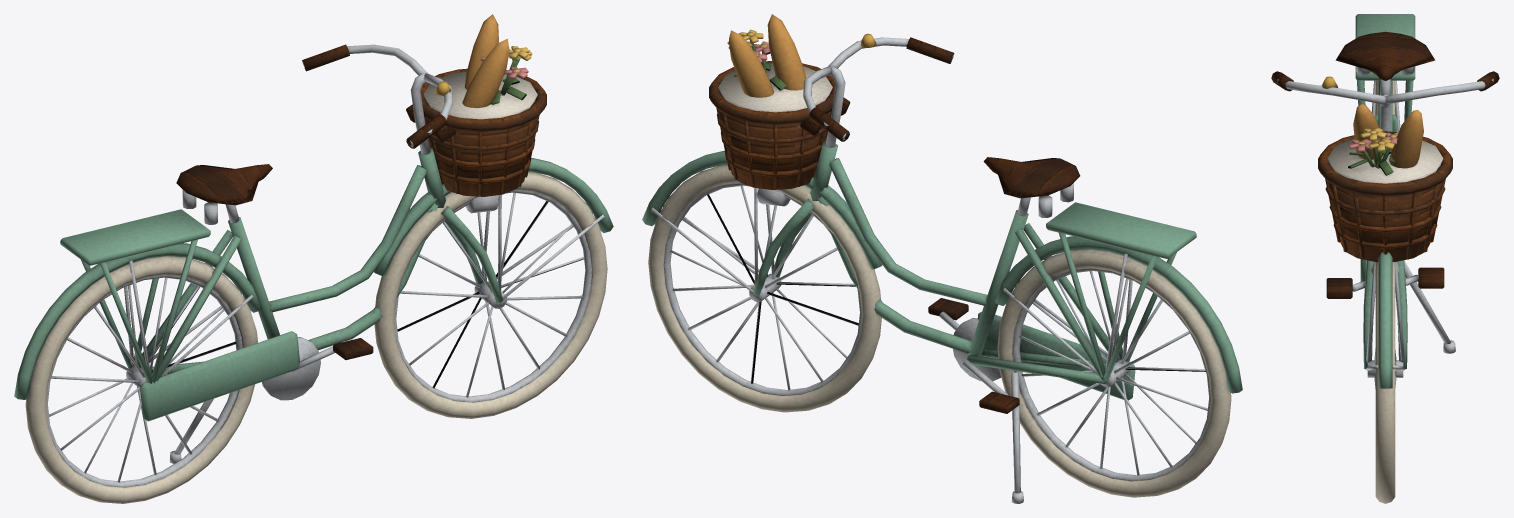
The model's file is prop_farm_bicycle.glb.
The picture shows the model from 3 angles, left to right: view 1: azimuth 30°, elevation 25°; view 2: azimuth 150°, elevation 25°; view 3: azimuth 270°, elevation 25°; orthographic projection.
Parts seen in each view (by area): view 1: FarmBicycle; view 2: FarmBicycle; view 3: FarmBicycle.
Boxes of the visible parts, box(x1,y1,x2,y2) form: FarmBicycle: box(14, 14, 613, 503); FarmBicycle: box(642, 14, 1242, 503); FarmBicycle: box(1271, 14, 1499, 503).
Bounding box in the file's own units: 1.74 × 1.08 × 0.5709.
2 materials, 2 textured.
